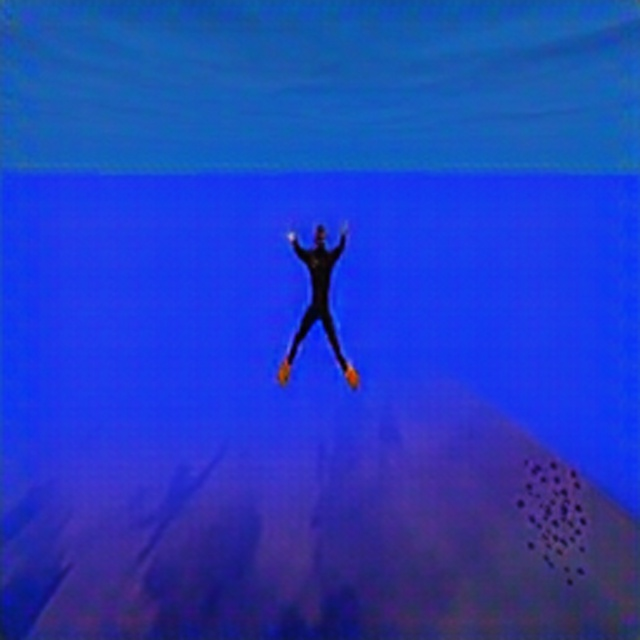diver: (275, 214, 361, 393)
